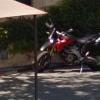Motorcycle: (35, 17, 100, 92)
